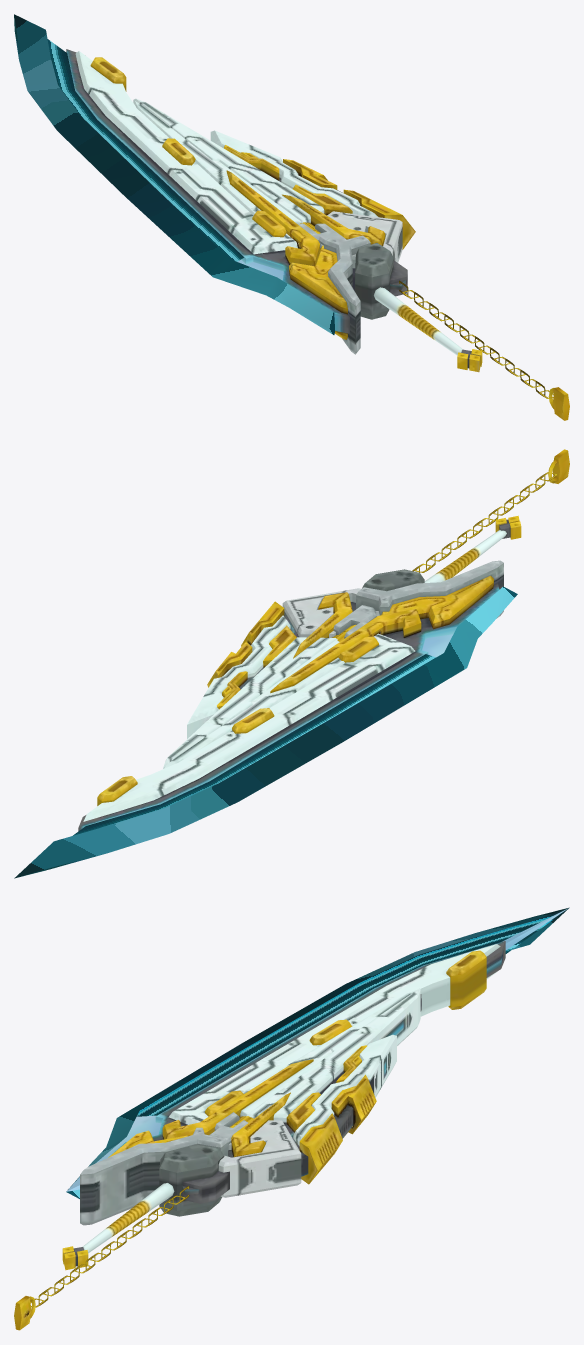
File: sword_l_mecha_sword_mecha_sword_s.glb
The picture shows the model from 3 angles, top to bottom: view 1: azimuth 30°, elevation 25°; view 2: azimuth 150°, elevation 25°; view 3: azimuth 330°, elevation 25°; orthographic projection. The views are drawn at different scales.
Bounding box in the file's own units: 0.5068 × 0.1309 × 2.4.
Materials: 4 (4 with a texture image).
